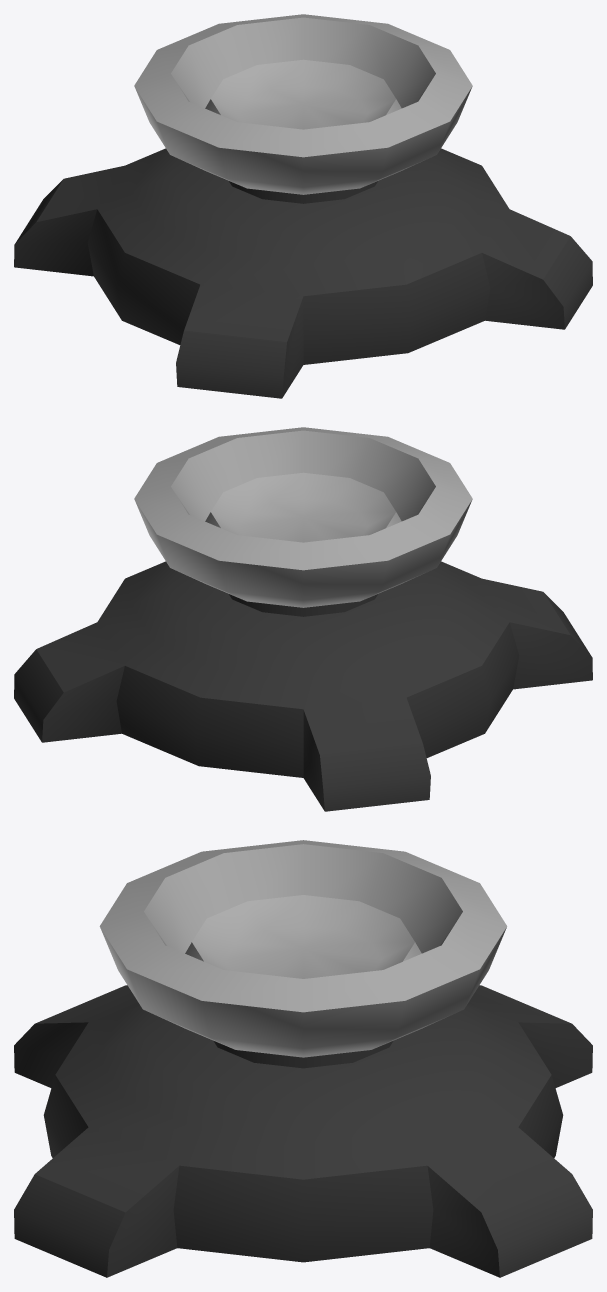
File: Turret_Base.fbx
The picture shows the model from 3 angles, top to bottom: view 1: azimuth 30°, elevation 25°; view 2: azimuth 150°, elevation 25°; view 3: azimuth 270°, elevation 25°; orthographic projection. The views are drawn at different scales.
Visible parts, largest first — view 1: pCylinder1; view 2: pCylinder1; view 3: pCylinder1.
Boxes of the visible parts, x1,y1,x2,y2 form: pCylinder1: [14, 14, 592, 398]; pCylinder1: [14, 427, 592, 811]; pCylinder1: [14, 840, 592, 1277].
Bounding box in the file's own units: 28.48 × 13.26 × 28.48.
